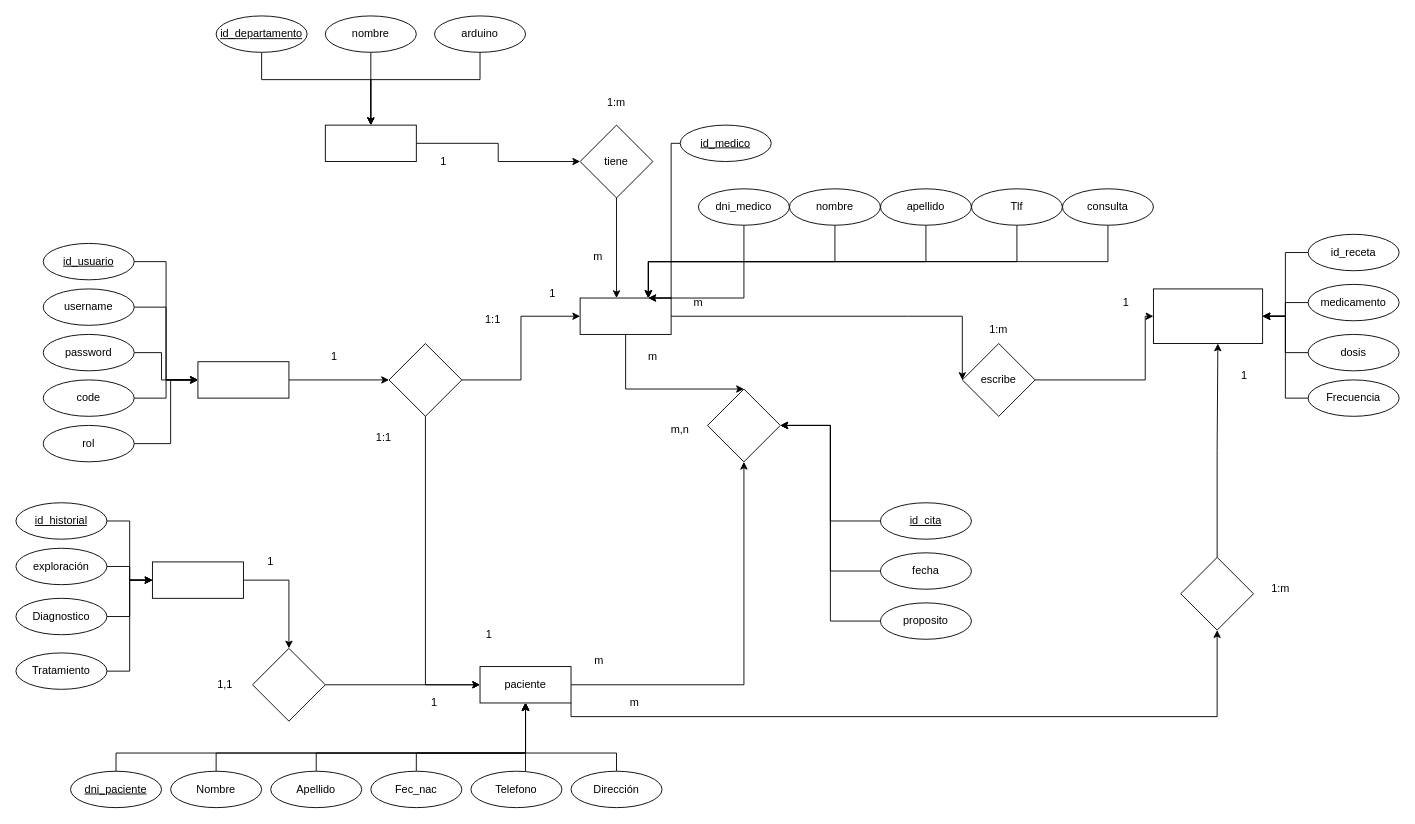
Some shapes in this 1415 by 824 pixel diagram are drawn without their labels. The shapes that lost their labels are listed below. From the top down, each one's centre as x and y in pixels, then its label:
point (370, 143): departamento
point (625, 315): médico
point (1208, 316): recetas
point (243, 379): usuario
point (425, 379): pertenece
point (743, 425): atiende
point (197, 579): Historial
point (1217, 593): recibe
point (288, 684): corresponde
